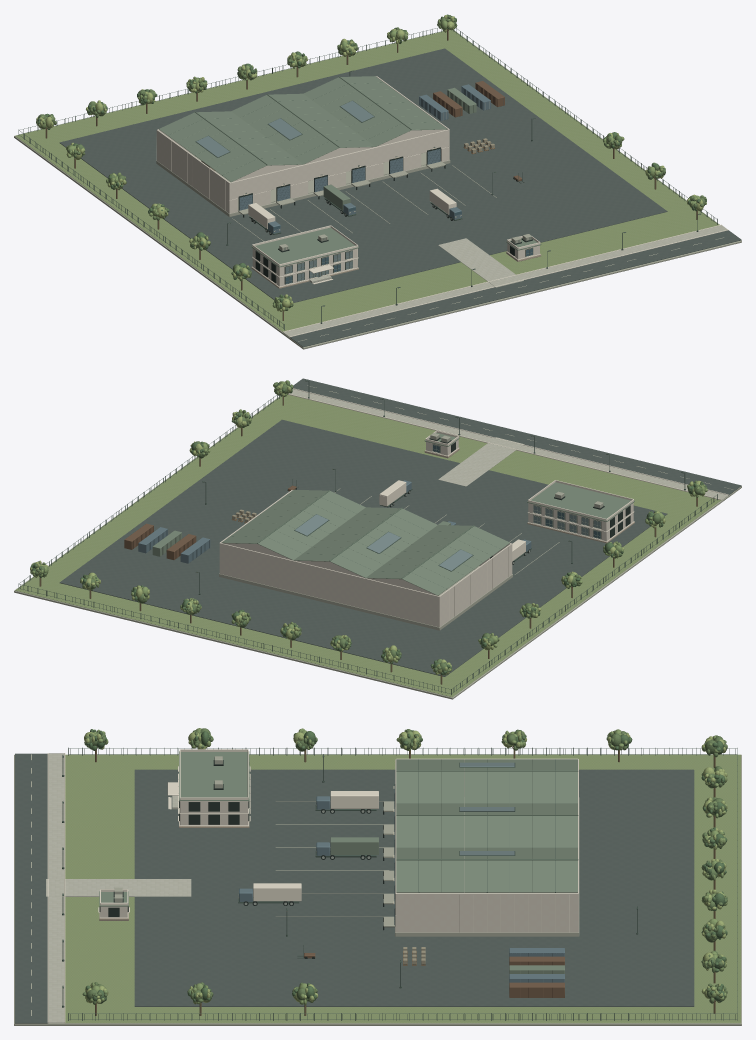
Rendered from logistics-intact.glb.
3 renders of one model, top to bottom at view 1: azimuth 30°, elevation 25°; view 2: azimuth 150°, elevation 25°; view 3: azimuth 270°, elevation 25°, orthographic. The views are drawn at different scales.
Visible parts, largest first — view 1: 材质批次_asphalt, 材质批次_grass, 材质批次_sage_metal_roof, 材质批次_limestone, 材质批次_plaza_paving, 材质批次_poi_service_concrete, 材质批次_warm_cream_trim, 材质批次_street_metal, 材质批次_poi_desaturated_blue, 材质批次_leaf_2, 材质批次_leaf_0, 材质批次_leaf_1 (+4 smaller); view 2: 材质批次_asphalt, 材质批次_grass, 材质批次_sage_metal_roof, 材质批次_limestone, 材质批次_plaza_paving, 材质批次_poi_service_concrete, 材质批次_street_metal, 材质批次_warm_cream_trim, 材质批次_leaf_1, 材质批次_leaf_2, 材质批次_poi_window_lit, 材质批次_leaf_0 (+5 smaller); view 3: 材质批次_asphalt, 材质批次_grass, 材质批次_sage_metal_roof, 材质批次_limestone, 材质批次_plaza_paving, 材质批次_street_metal, 材质批次_poi_service_concrete, 材质批次_warm_cream_trim, 材质批次_leaf_1, 材质批次_leaf_3, 材质批次_leaf_2, 材质批次_leaf_0 (+7 smaller).
Boxes of the visible parts, left/top/right/bottom form: 材质批次_asphalt: left=59, top=48, right=741, bottom=347; 材质批次_grass: left=15, top=30, right=719, bottom=331; 材质批次_sage_metal_roof: left=159, top=76, right=541, bottom=267; 材质批次_limestone: left=156, top=76, right=539, bottom=286; 材质批次_plaza_paving: left=283, top=225, right=727, bottom=337; 材质批次_poi_service_concrete: left=14, top=30, right=741, bottom=349; 材质批次_warm_cream_trim: left=171, top=141, right=728, bottom=337; 材质批次_street_metal: left=18, top=27, right=717, bottom=330; 材质批次_poi_desaturated_blue: left=239, top=84, right=490, bottom=233; 材质批次_leaf_2: left=36, top=15, right=703, bottom=311; 材质批次_leaf_0: left=36, top=18, right=706, bottom=309; 材质批次_leaf_1: left=36, top=15, right=706, bottom=310; 材质批次_asphalt: left=59, top=378, right=741, bottom=676; 材质批次_grass: left=15, top=394, right=720, bottom=697; 材质批次_sage_metal_roof: left=152, top=433, right=634, bottom=595; 材质批次_limestone: left=219, top=439, right=633, bottom=627; 材质批次_plaza_paving: left=289, top=389, right=728, bottom=499; 材质批次_poi_service_concrete: left=14, top=397, right=741, bottom=699; 材质批次_street_metal: left=18, top=380, right=717, bottom=694; 材质批次_warm_cream_trim: left=288, top=388, right=728, bottom=620; 材质批次_leaf_1: left=34, top=381, right=707, bottom=674; 材质批次_leaf_2: left=30, top=382, right=703, bottom=674; 材质批次_poi_window_lit: left=295, top=506, right=600, bottom=570; 材质批次_leaf_0: left=30, top=380, right=707, bottom=675; 材质批次_asphalt: left=15, top=753, right=694, bottom=1023; 材质批次_grass: left=65, top=754, right=740, bottom=1023; 材质批次_sage_metal_roof: left=99, top=751, right=577, bottom=973; 材质批次_limestone: left=100, top=758, right=578, bottom=932; 材质批次_plaza_paving: left=46, top=753, right=191, bottom=1023; 材质批次_street_metal: left=62, top=747, right=737, bottom=1020; 材质批次_poi_service_concrete: left=14, top=754, right=741, bottom=1025; 材质批次_warm_cream_trim: left=47, top=749, right=569, bottom=1023; 材质批次_leaf_1: left=82, top=728, right=727, bottom=1004; 材质批次_leaf_3: left=85, top=729, right=727, bottom=1003; 材质批次_leaf_2: left=84, top=728, right=727, bottom=1004; 材质批次_leaf_0: left=86, top=728, right=727, bottom=1005.
Bounding box in the file's own units: 140 × 13.93 × 160.
Materials: 27 (5 with a texture image).
